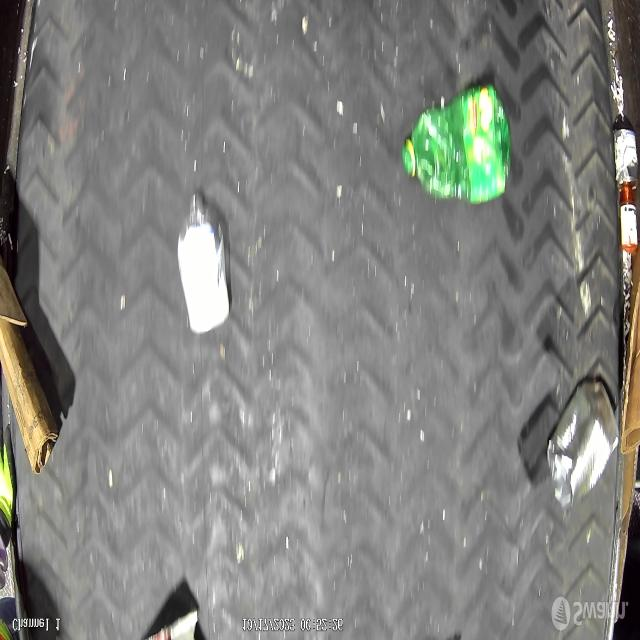can: (615, 129, 640, 195)
plastic_bottle: (402, 90, 512, 207), (547, 384, 619, 509)
